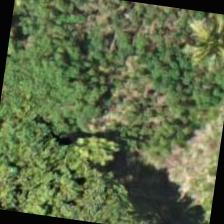Kelapa_Sawit: (163, 7, 223, 94)
